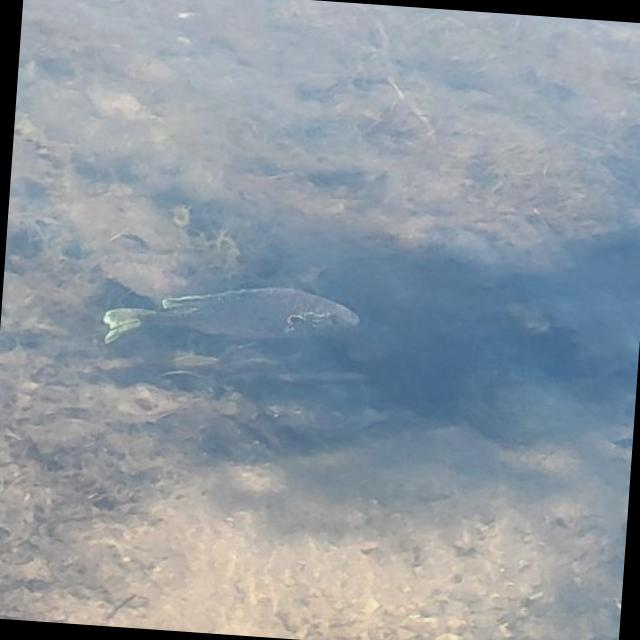Gunes Levregi: (96, 270, 365, 364)
